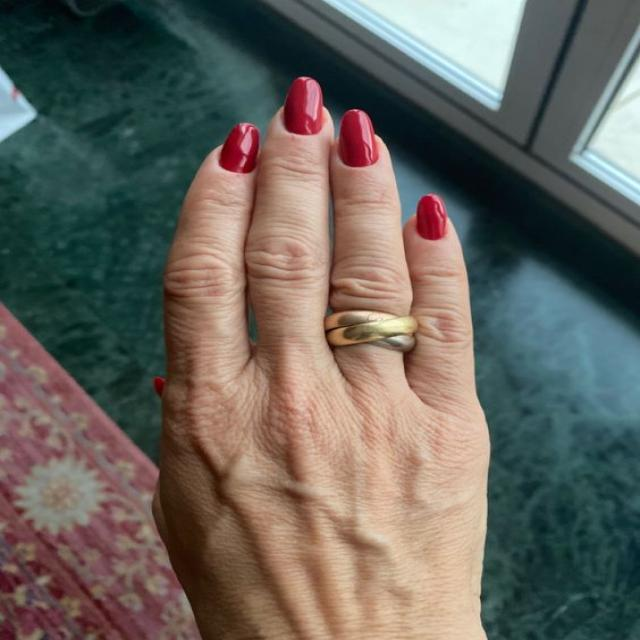Fingernail: (338, 109, 379, 168), (284, 77, 322, 136), (219, 122, 259, 174), (416, 192, 448, 241)
